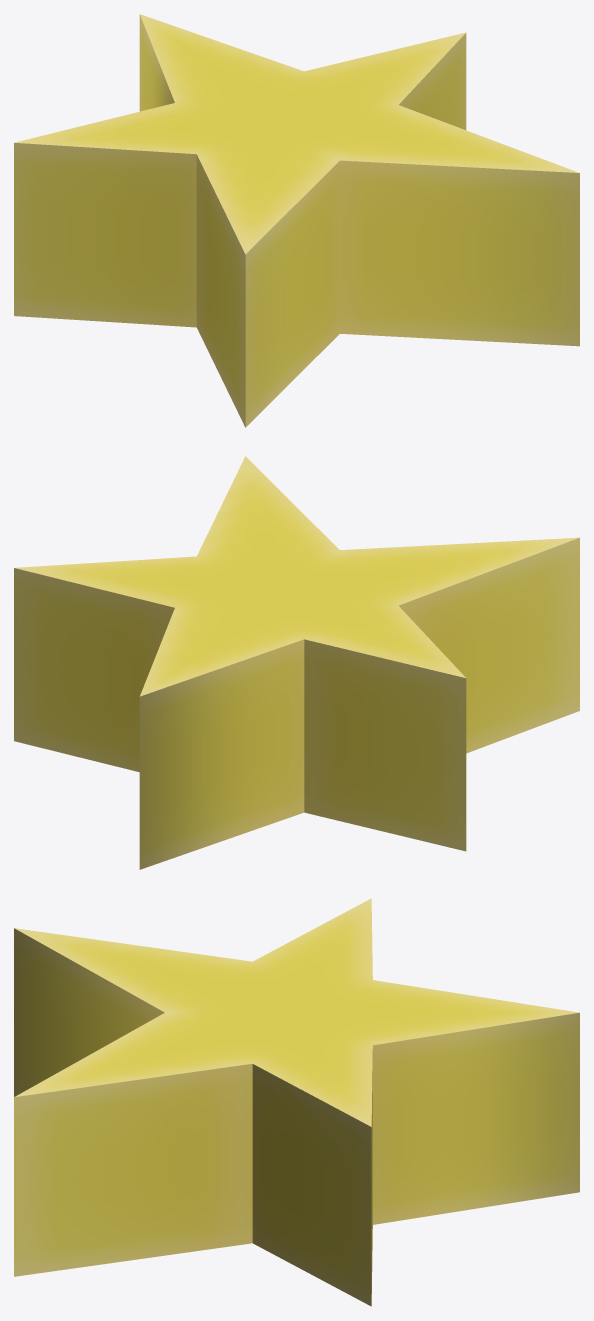
File: jsf_ChocolateDecoration_01.fbx
The picture shows the model from 3 angles, top to bottom: view 1: azimuth 30°, elevation 25°; view 2: azimuth 150°, elevation 25°; view 3: azimuth 270°, elevation 25°; orthographic projection. The views are drawn at different scales.
Parts seen in each view (by area): view 1: jsf_ChocolateDecoration_01; view 2: jsf_ChocolateDecoration_01; view 3: jsf_ChocolateDecoration_01.
Boxes of the visible parts, box(x1,y1,x2,y2) form: jsf_ChocolateDecoration_01: box(14, 14, 579, 427); jsf_ChocolateDecoration_01: box(14, 456, 579, 869); jsf_ChocolateDecoration_01: box(14, 898, 579, 1306).
Bounding box in the file's own units: 4.51 × 1.65 × 4.71.
